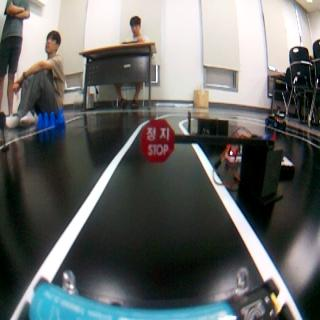stop: (140, 118, 172, 162)
